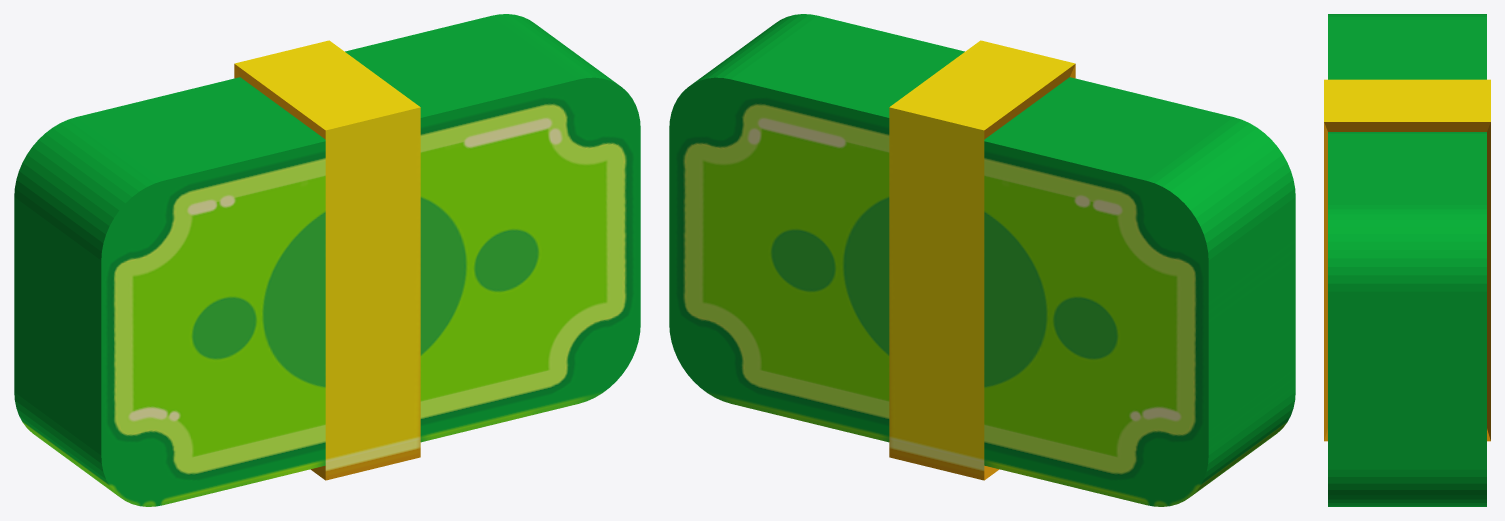
Rendered from dolar.fbx.
The picture shows the model from 3 angles, left to right: view 1: azimuth 30°, elevation 25°; view 2: azimuth 150°, elevation 25°; view 3: azimuth 270°, elevation 25°; orthographic projection. The views are drawn at different scales.
Visible parts, largest first — view 1: Dollars; view 2: Dollars; view 3: Dollars.
Part boxes in pixels (bbox=[...]): Dollars: bbox=[14, 14, 640, 506]; Dollars: bbox=[669, 14, 1295, 506]; Dollars: bbox=[1324, 14, 1490, 506].
Bounding box in the file's own units: 0.9122 × 0.5658 × 0.2678.
1 material, 1 textured.
